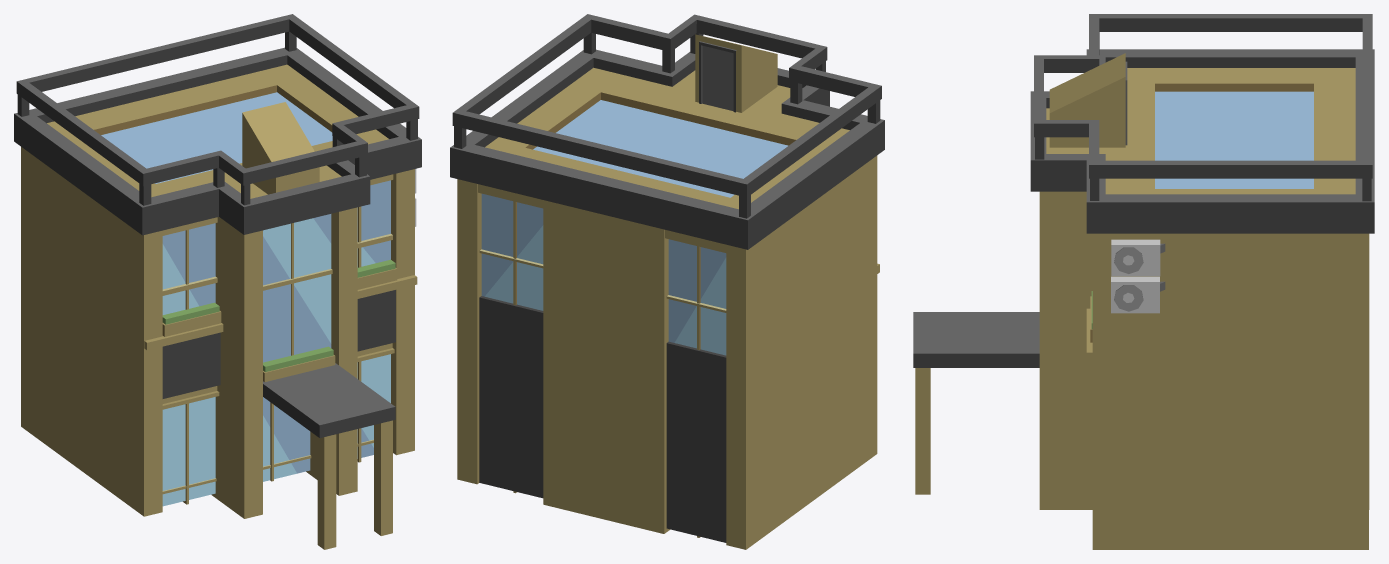
The model's file is hotel_002.fbx.
3 views of the same model, side by side, from view 1: azimuth 30°, elevation 25°; view 2: azimuth 150°, elevation 25°; view 3: azimuth 270°, elevation 25° (orthographic). The views are drawn at different scales.
Visible parts, largest first — view 1: hotel_002; view 2: hotel_002; view 3: hotel_002.
Boxes of the visible parts, box(x1,y1,x2,y2) form: hotel_002: box(14, 14, 421, 549); hotel_002: box(450, 14, 884, 549); hotel_002: box(913, 14, 1374, 549).
Size of the model in its own units: 610 by 755 by 761.
